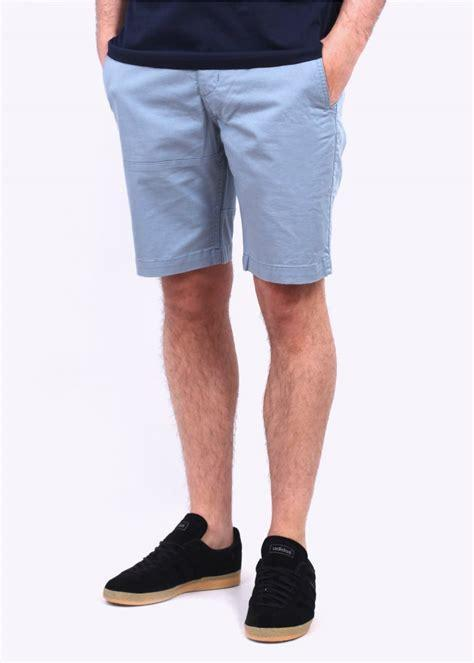short: (102, 46, 346, 286)
